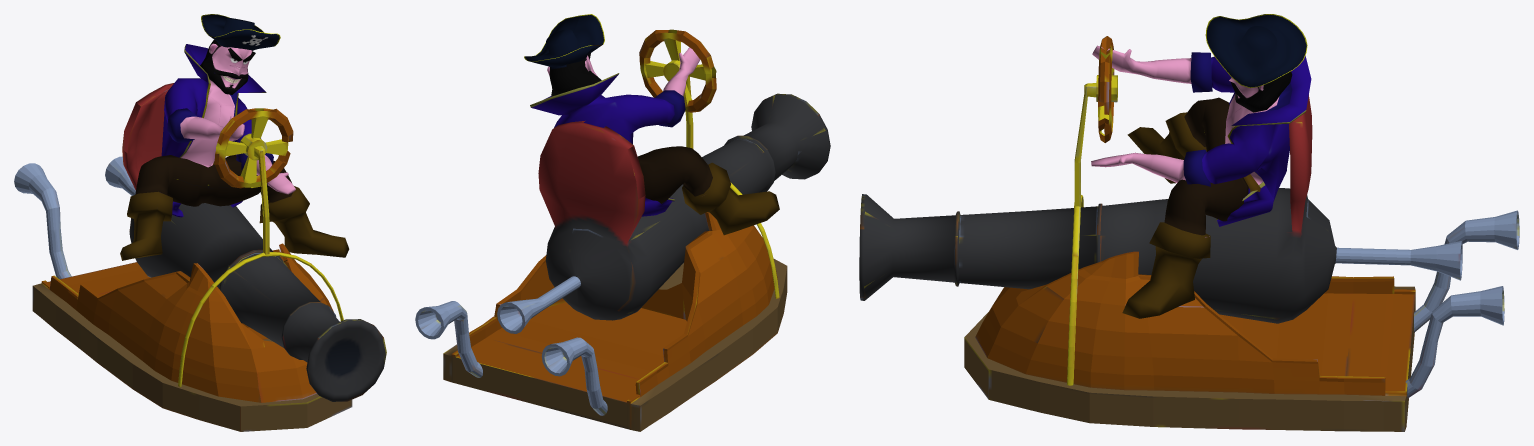
File: pirataGiroDER_000467.obj
The picture shows the model from 3 angles, left to right: view 1: azimuth 30°, elevation 25°; view 2: azimuth 150°, elevation 25°; view 3: azimuth 270°, elevation 25°; orthographic projection. The views are drawn at different scales.
Parts seen in each view (by area): view 1: carro_pirata, Pirata_PirataH; view 2: carro_pirata, Pirata_PirataH; view 3: carro_pirata, Pirata_PirataH.
Part boxes in pixels (left/top/right/bottom): carro_pirata: left=14, top=83, right=386, bottom=431; Pirata_PirataH: left=120, top=14, right=349, bottom=260; carro_pirata: left=415, top=29, right=830, bottom=431; Pirata_PirataH: left=524, top=14, right=779, bottom=235; carro_pirata: left=859, top=36, right=1519, bottom=431; Pirata_PirataH: left=1091, top=14, right=1311, bottom=318.
Bounding box in the file's own units: 5.68 × 7.56 × 12.1.
